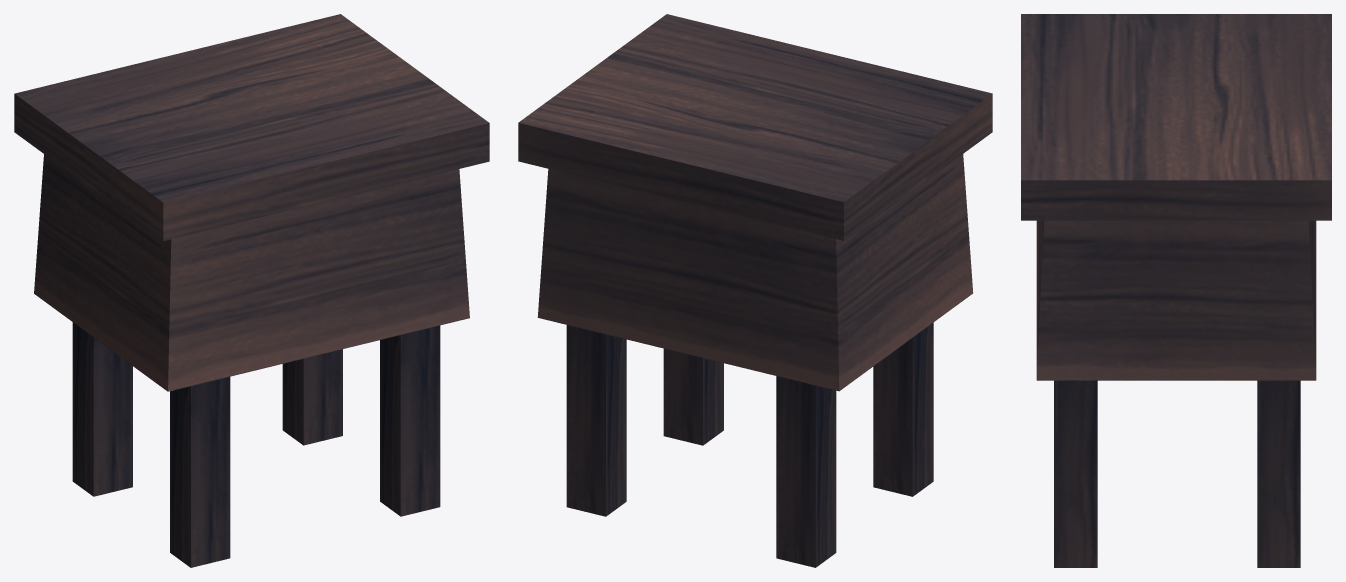
Rendered from Nightstand_B.fbx.
3 renders of one model, left to right at view 1: azimuth 30°, elevation 25°; view 2: azimuth 150°, elevation 25°; view 3: azimuth 270°, elevation 25°, orthographic. The views are drawn at different scales.
Parts seen in each view (by area): view 1: Nightstand_B; view 2: Nightstand_B; view 3: Nightstand_B.
Boxes of the visible parts, x1,y1,x2,y2 form: Nightstand_B: [14, 14, 489, 567]; Nightstand_B: [518, 14, 992, 567]; Nightstand_B: [1021, 14, 1331, 567].
Bounding box in the file's own units: 0.1571 × 0.1783 × 0.1241.
